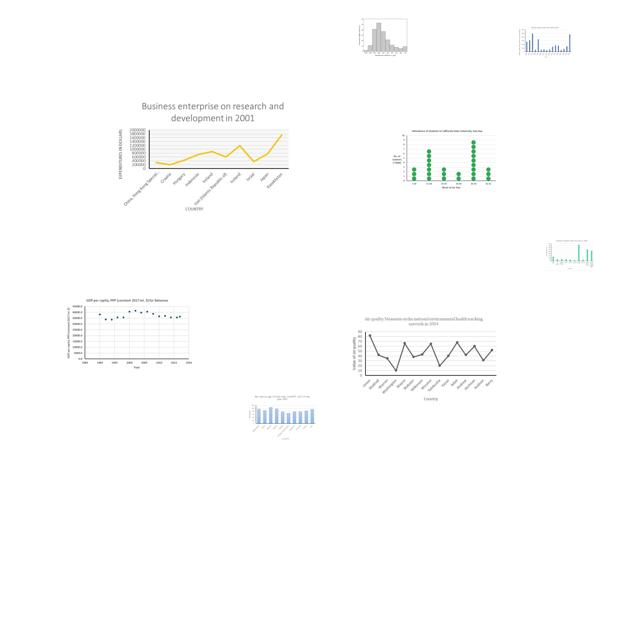Graph: (114, 98, 292, 214), (347, 314, 498, 403), (64, 296, 195, 373), (390, 128, 498, 191), (247, 395, 317, 441), (358, 18, 408, 57), (518, 26, 572, 58), (545, 239, 595, 271)
